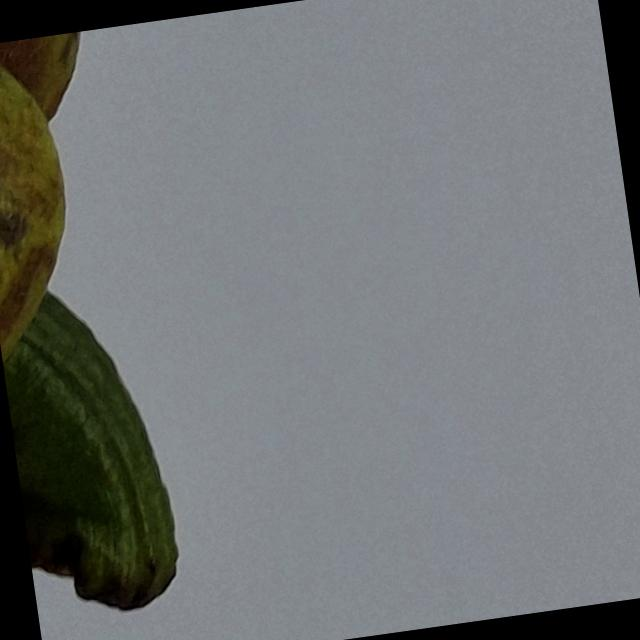mangosteen: (0, 20, 240, 640)
